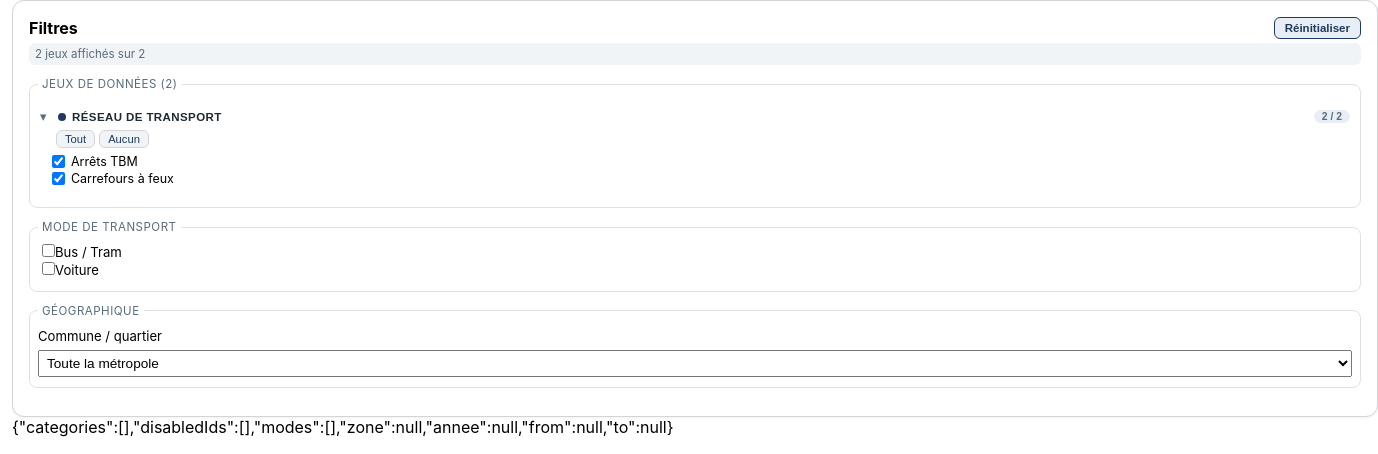
Test: FilterRail › resets all filters
Click the checkbox labelled "Arrêts TBM": (58, 162) [52,155,65,168]
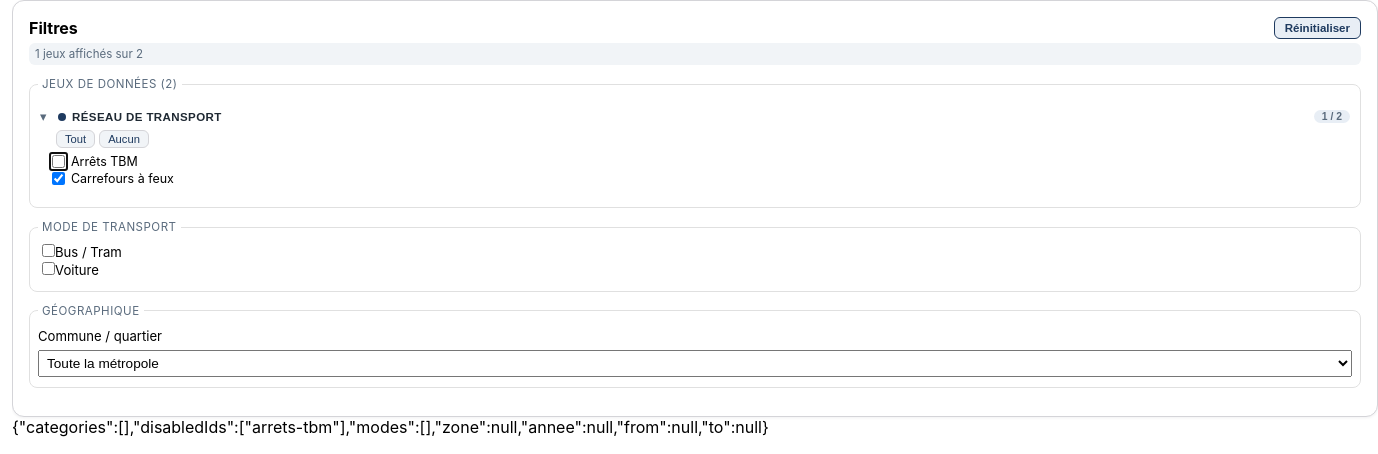
Click the button "Réinitialiser": (1317, 28) [1274,17,1361,39]
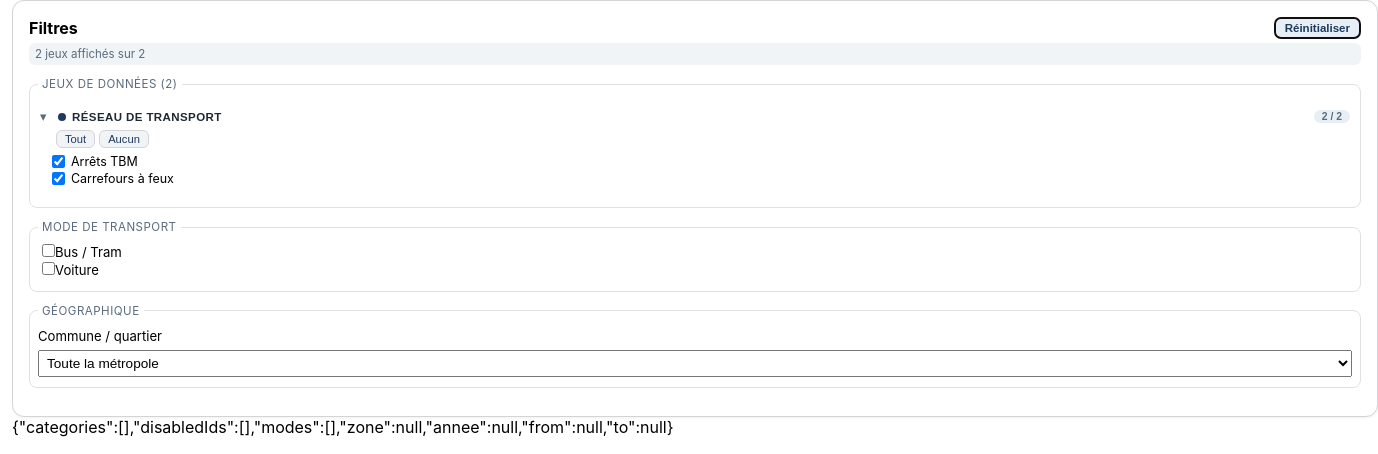
Now the text with test id "state" shows "{\"categories\":[],\"disabledIds\":[],\"modes\":[],\"zone\":null,\"annee\":null,\"from\":null,\"to\":null}", box [12,417,674,437]
